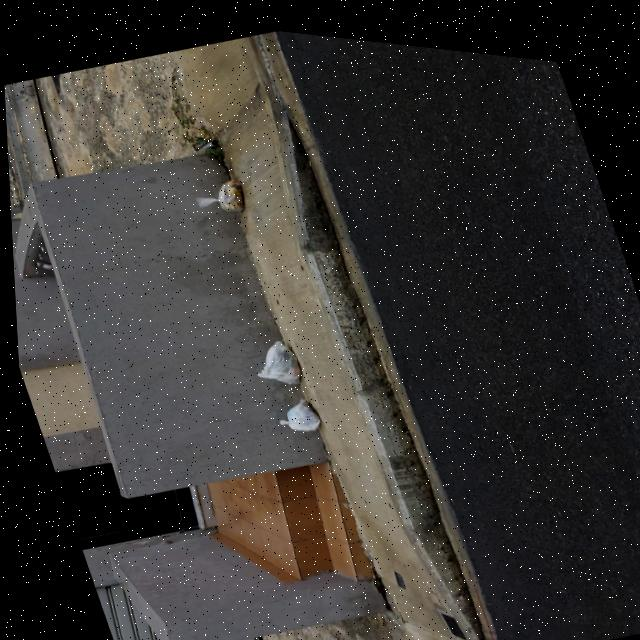Organic Waste -White Bag-: (242, 327, 303, 389), (189, 169, 247, 218), (269, 387, 321, 434)
